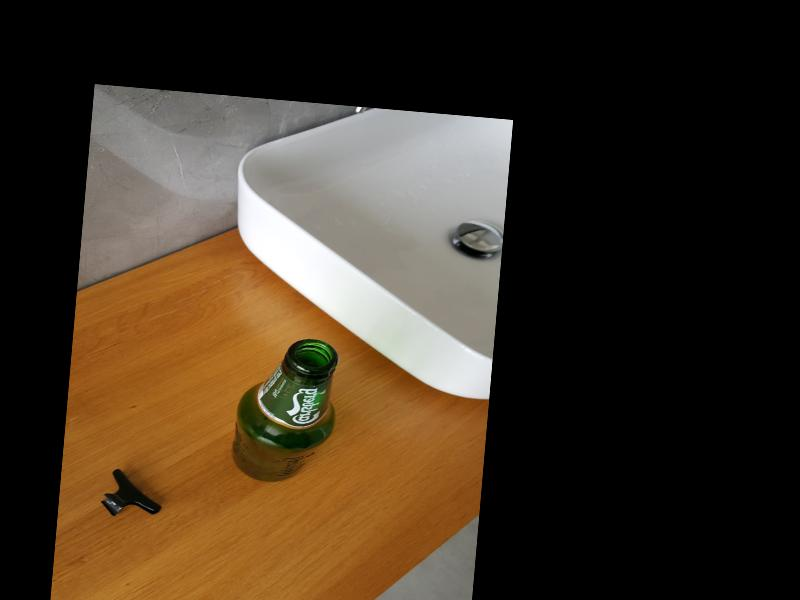Beer: (231, 334, 340, 488)
